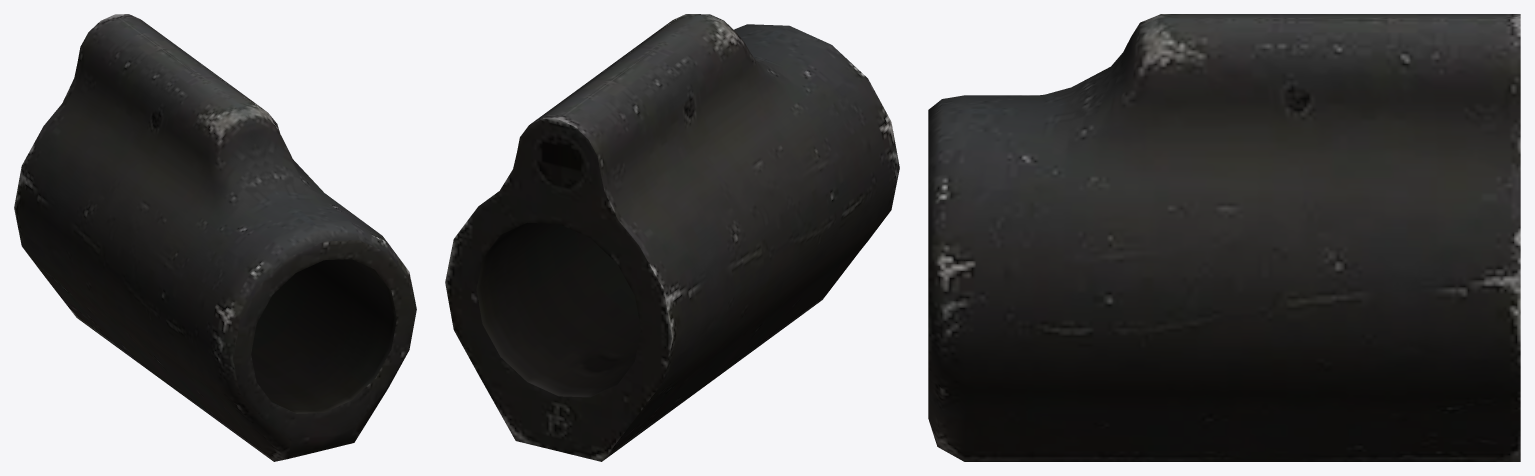
3 views of the same model, side by side, from view 1: azimuth 30°, elevation 25°; view 2: azimuth 150°, elevation 25°; view 3: azimuth 270°, elevation 25° (orthographic). The views are drawn at different scales.
Visible parts, largest first — view 1: gas_block_ar15_dd_mk12_low_profile_LOD0; view 2: gas_block_ar15_dd_mk12_low_profile_LOD0; view 3: gas_block_ar15_dd_mk12_low_profile_LOD0.
Part boxes in pixels (<box>): gas_block_ar15_dd_mk12_low_profile_LOD0: <box>14,14,416,461</box>; gas_block_ar15_dd_mk12_low_profile_LOD0: <box>445,14,899,461</box>; gas_block_ar15_dd_mk12_low_profile_LOD0: <box>928,14,1520,461</box>.
Size of the model in its own units: 0.0254 by 0.0355 by 0.0458.
1 material, 1 textured.
